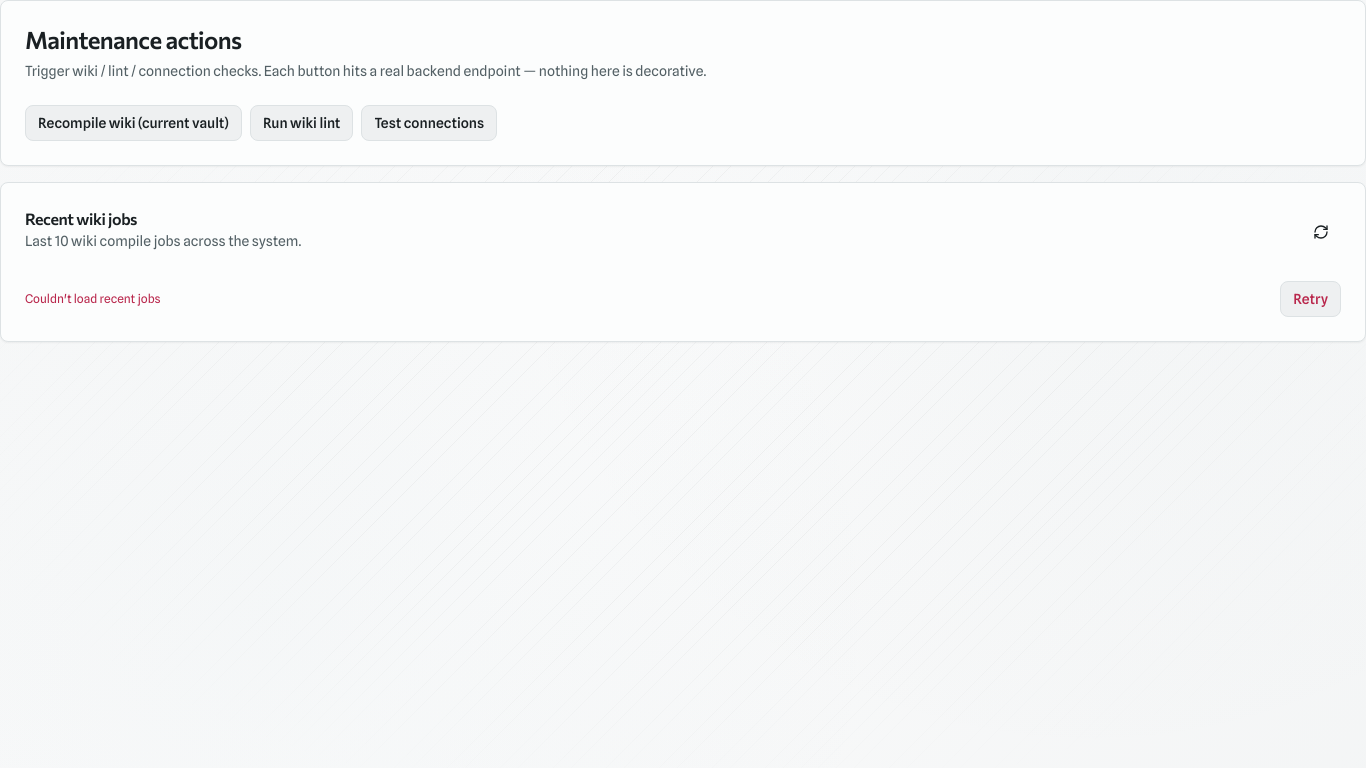
MaintenanceSettings recent wiki jobs retry contract › shows Retry after the failed fetch and recovers with the server limit of 10
Check: the message shows "Couldn't load", box [25, 291, 161, 306]
Click the button "Retry" at coordinates (1311, 299), box [1280, 281, 1341, 317]
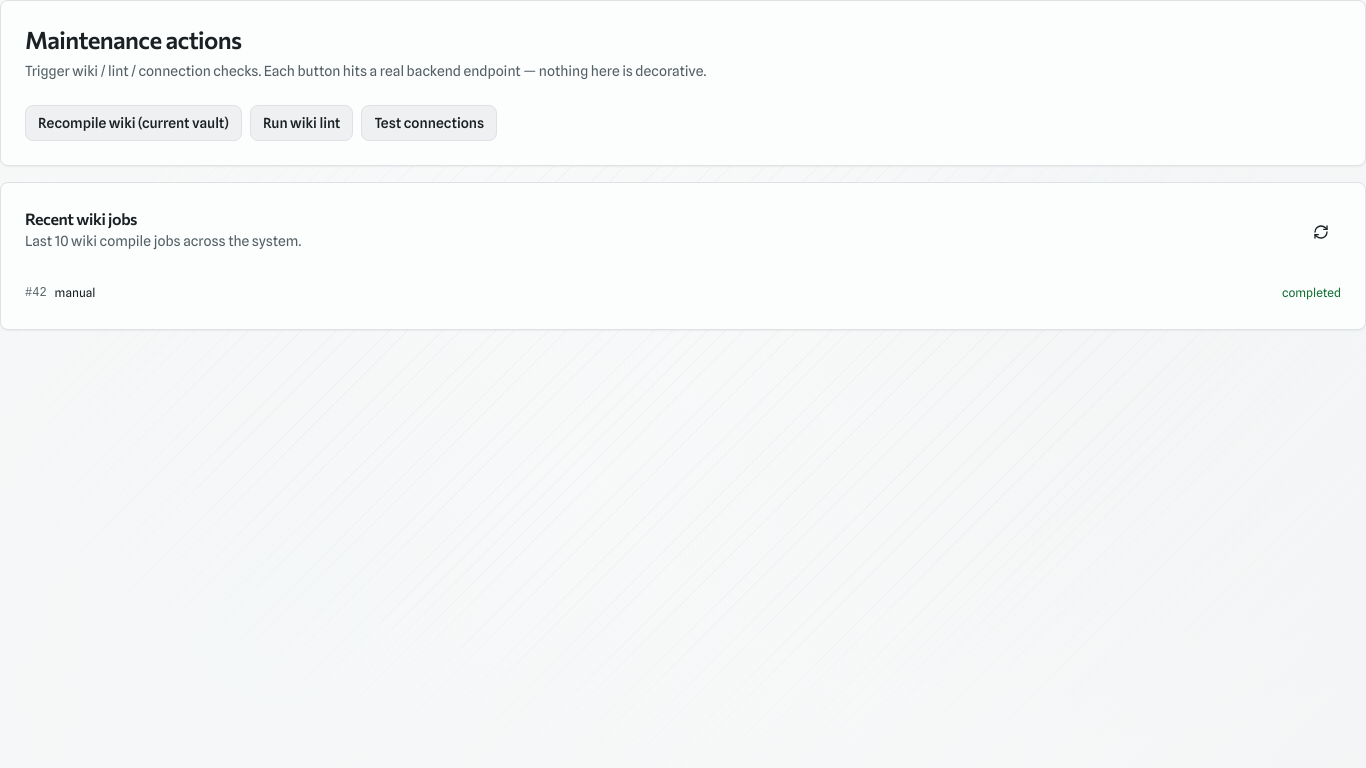
Check: the text "#42" is shown, box [25, 285, 47, 301]
Check: the message "Couldn't load recent jobs Retry" is gone
